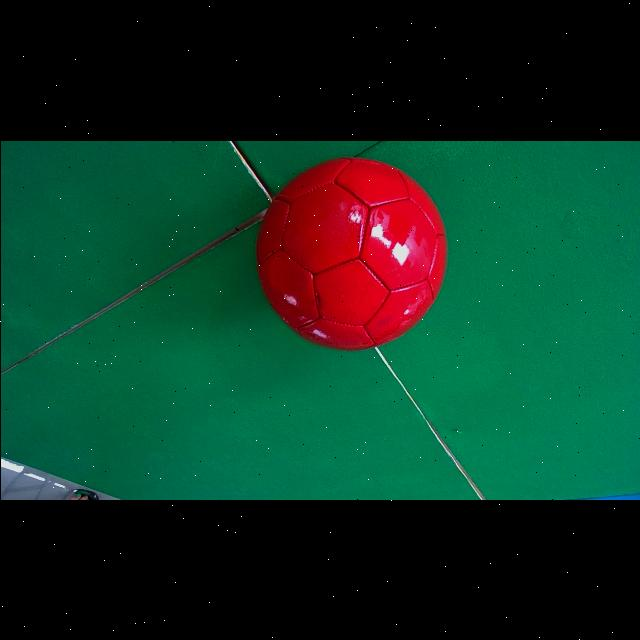R: (256, 159, 446, 351)
